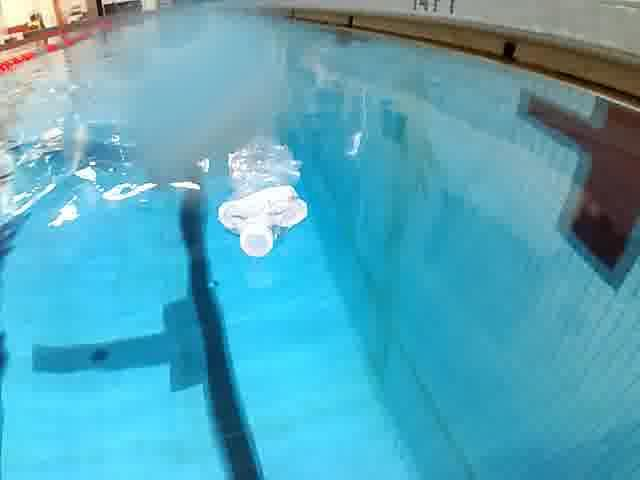Bottle: (218, 132, 304, 255)
